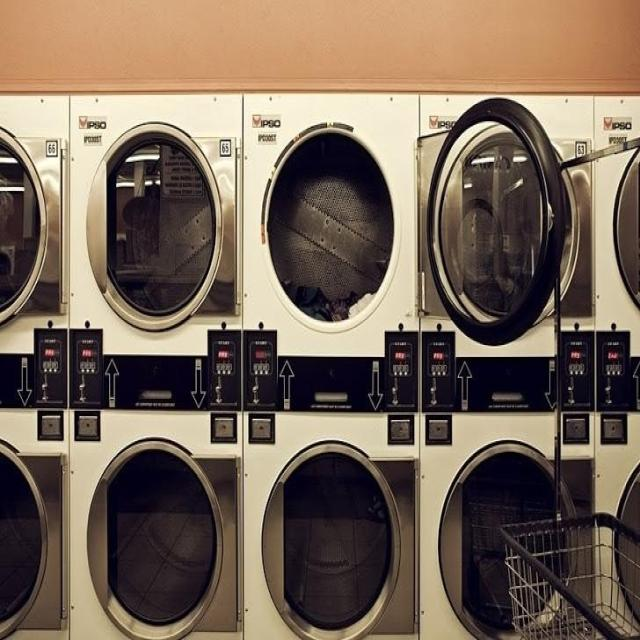E-waste: (0, 79, 640, 640)
Metal: (508, 521, 636, 640)
